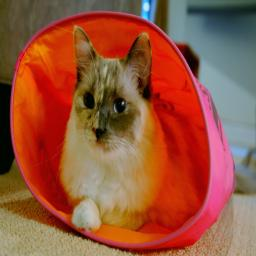catnose: (92, 120, 107, 141)
